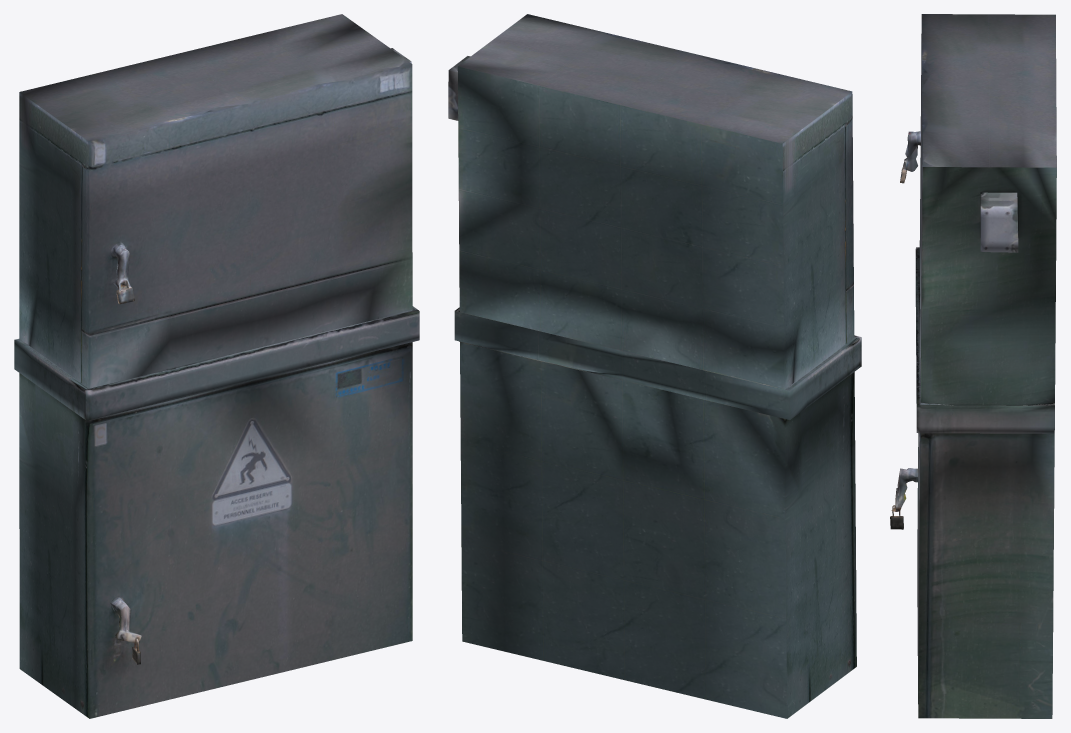
The model's file is electric_box_scan_no._1.glb.
The picture shows the model from 3 angles, left to right: view 1: azimuth 30°, elevation 25°; view 2: azimuth 150°, elevation 25°; view 3: azimuth 270°, elevation 25°; orthographic projection. The views are drawn at different scales.
Parts seen in each view (by area): view 1: Object_2; view 2: Object_2; view 3: Object_2.
Boxes of the visible parts, x1,y1,x2,y2 form: Object_2: (14,14,419,718); Object_2: (448,14,861,718); Object_2: (890,14,1056,718).
Size of the model in its own units: 9.22 by 14.15 by 3.86.
1 material, 1 textured.
